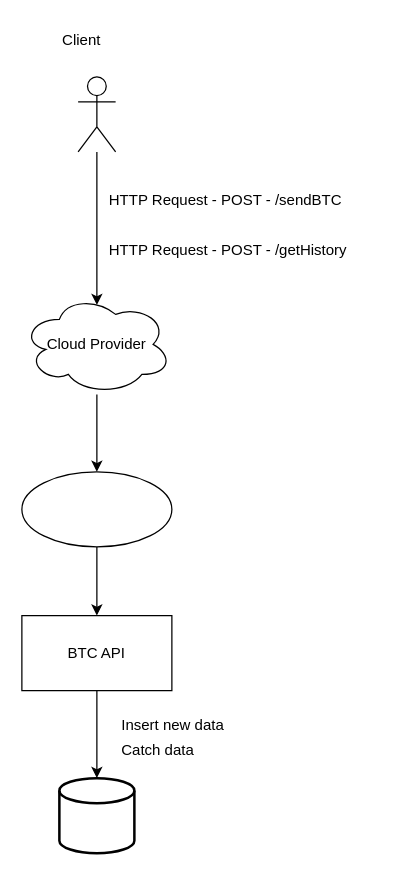
This 401x875 diagram has some shape labels left out. Here are the shapes that lost their labels. From the top down, the box of each, then its label:
(21, 471, 172, 547): Load Balancer
(58, 776, 135, 854): NoSQL
